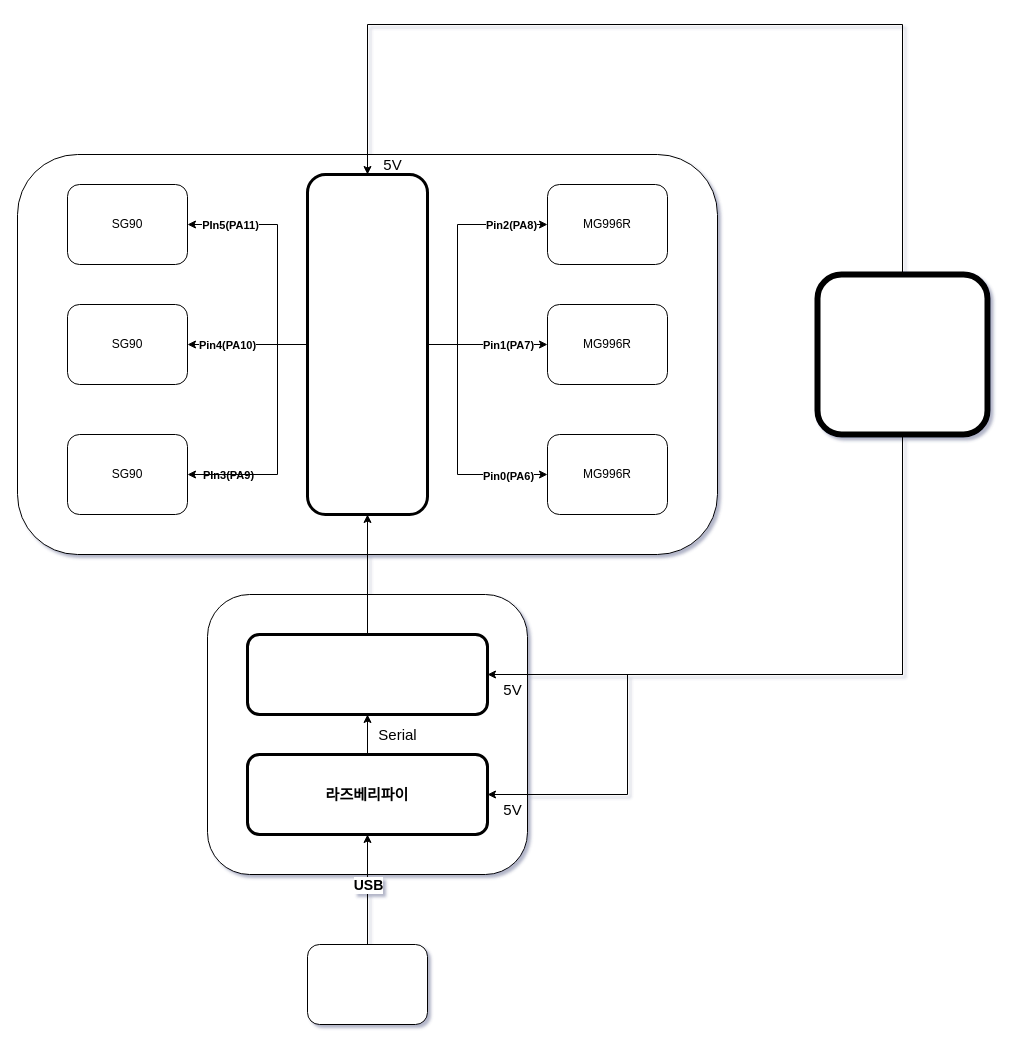
Image size: 1014x1048. Some labels were removed from this diagram. The centre of each missing label's shape, as x and y in pixels:
PCA9685 (모터드라이버): (367,344)
stm32: (367,674)
전원: (902,354)
카메라: (367,984)
